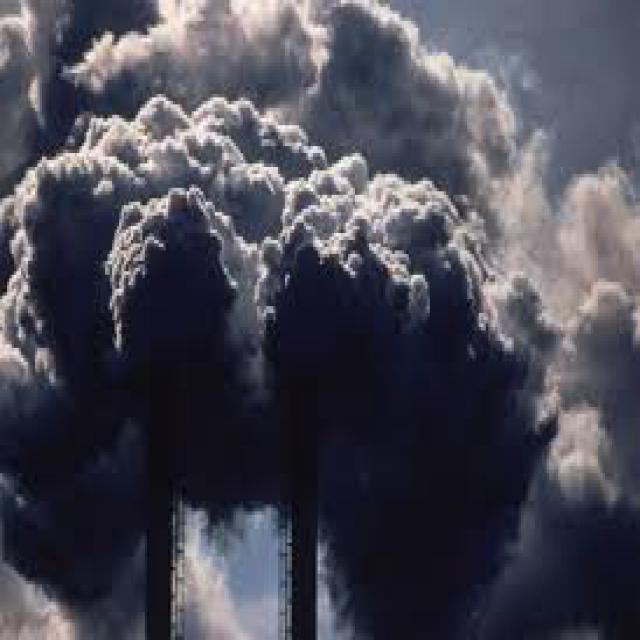smoke: (2, 3, 638, 581)
